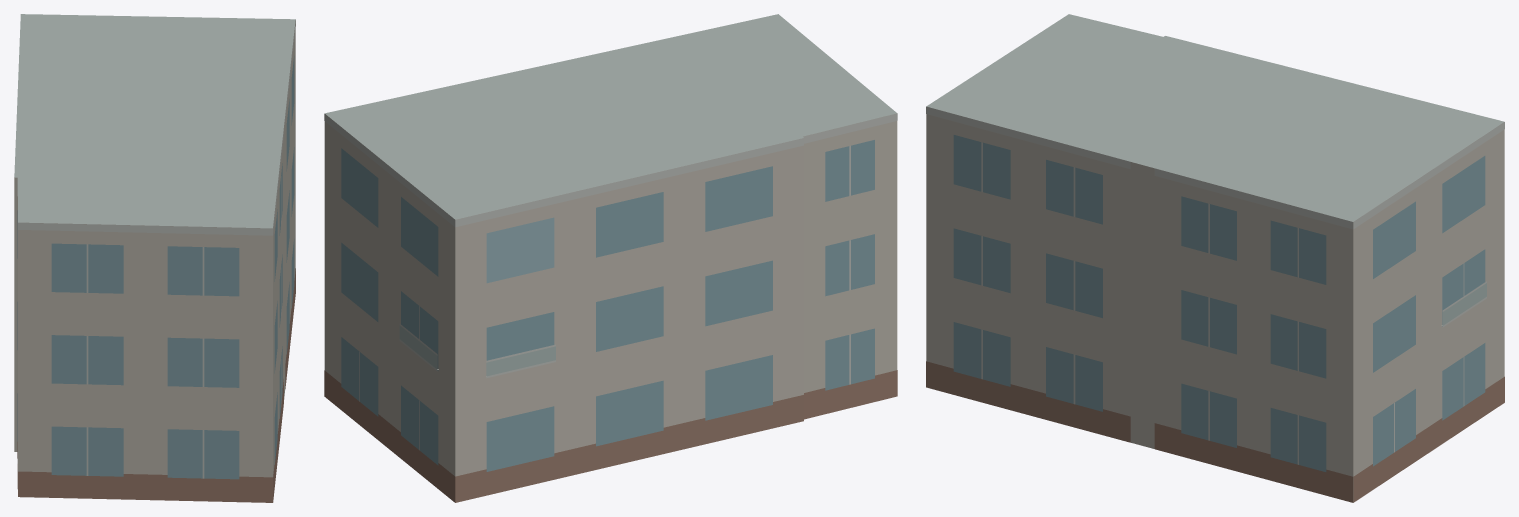
File: survey-upis-32714489.glb
The picture shows the model from 3 angles, left to right: view 1: azimuth 30°, elevation 25°; view 2: azimuth 150°, elevation 25°; view 3: azimuth 270°, elevation 25°; orthographic projection. The views are drawn at different scales.
Parts seen in each view (by area): view 1: survey-upis-32714489.tmp; view 2: survey-upis-32714489.tmp; view 3: survey-upis-32714489.tmp.
Part boxes in pixels (x1,y1,x2,y2): survey-upis-32714489.tmp: [14, 14, 295, 502]; survey-upis-32714489.tmp: [324, 14, 897, 502]; survey-upis-32714489.tmp: [926, 14, 1504, 502].
Size of the model in its own units: 14.54 by 9.15 by 17.09.
